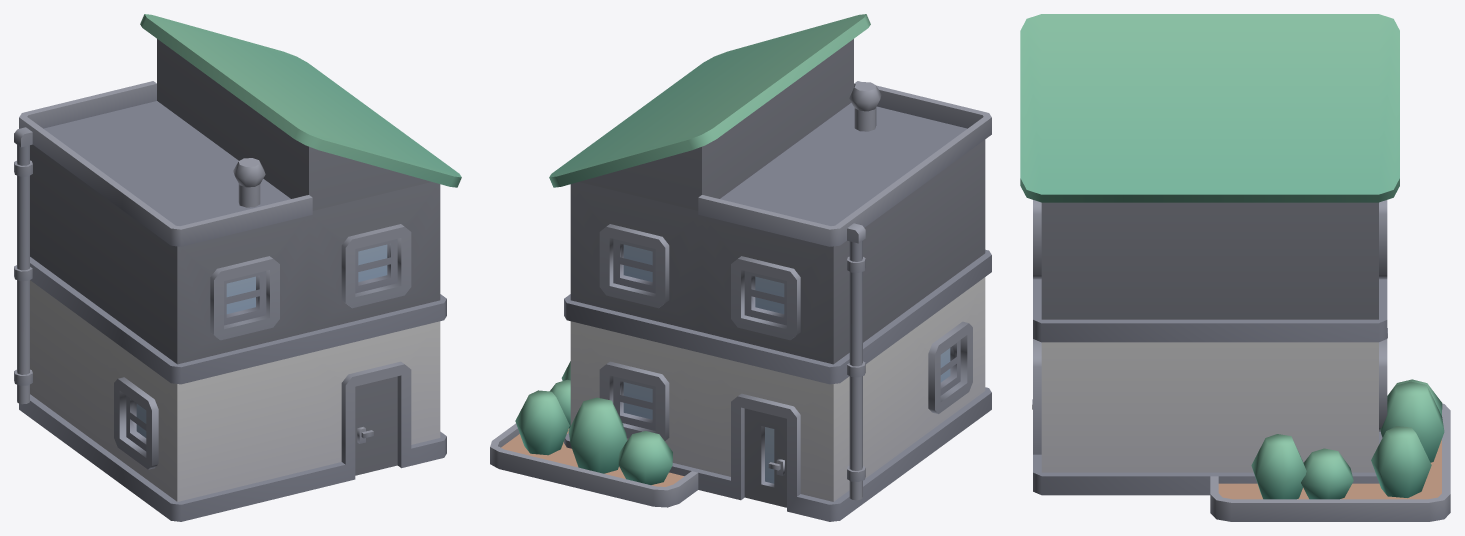
The model's file is building-type-l.glb.
The picture shows the model from 3 angles, left to right: view 1: azimuth 30°, elevation 25°; view 2: azimuth 150°, elevation 25°; view 3: azimuth 270°, elevation 25°; orthographic projection. The views are drawn at different scales.
Parts seen in each view (by area): view 1: building-type-l; view 2: building-type-l; view 3: building-type-l.
Part boxes in pixels (box(x1,y1,x2,y2)): building-type-l: box(14, 14, 461, 521); building-type-l: box(490, 14, 991, 521); building-type-l: box(1020, 14, 1450, 521).
Bounding box in the file's own units: 1.03 × 1.05 × 1.02.
